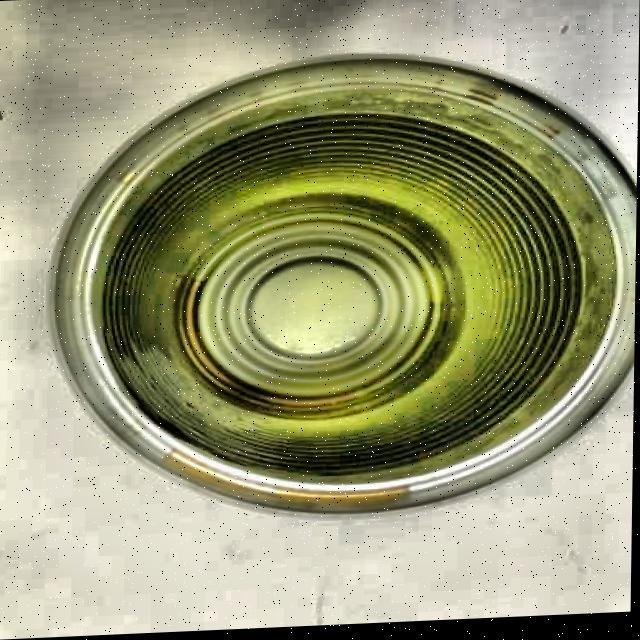metal: (41, 37, 639, 533)
